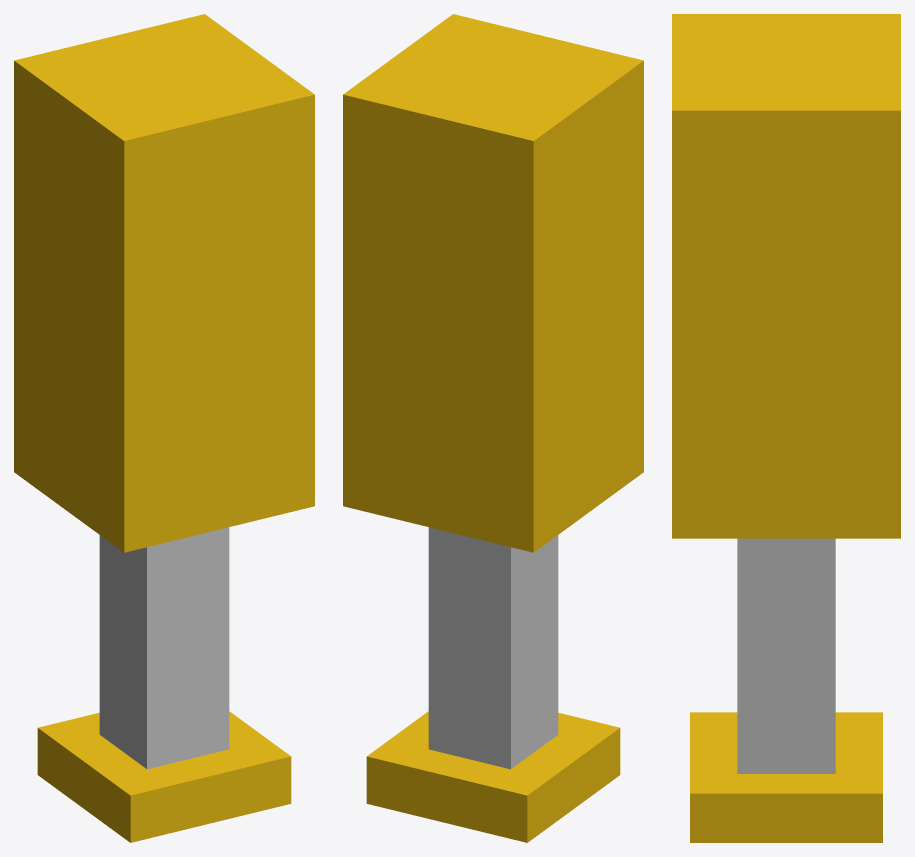
File: gr_piston.fbx
3 renders of one model, left to right at view 1: azimuth 30°, elevation 25°; view 2: azimuth 150°, elevation 25°; view 3: azimuth 270°, elevation 25°, orthographic. The views are drawn at different scales.
Visible parts, largest first — view 1: PistonContainer, PistonArm; view 2: PistonContainer, PistonArm; view 3: PistonContainer, PistonArm.
Boxes of the visible parts, left/top/right/bottom form: PistonContainer: left=14, top=14, right=314, bottom=552; PistonArm: left=37, top=527, right=291, bottom=842; PistonContainer: left=343, top=14, right=643, bottom=552; PistonArm: left=366, top=527, right=620, bottom=842; PistonContainer: left=672, top=14, right=900, bottom=538; PistonArm: left=690, top=538, right=882, bottom=842.
Size of the model in its own units: 310 by 1106 by 310.
